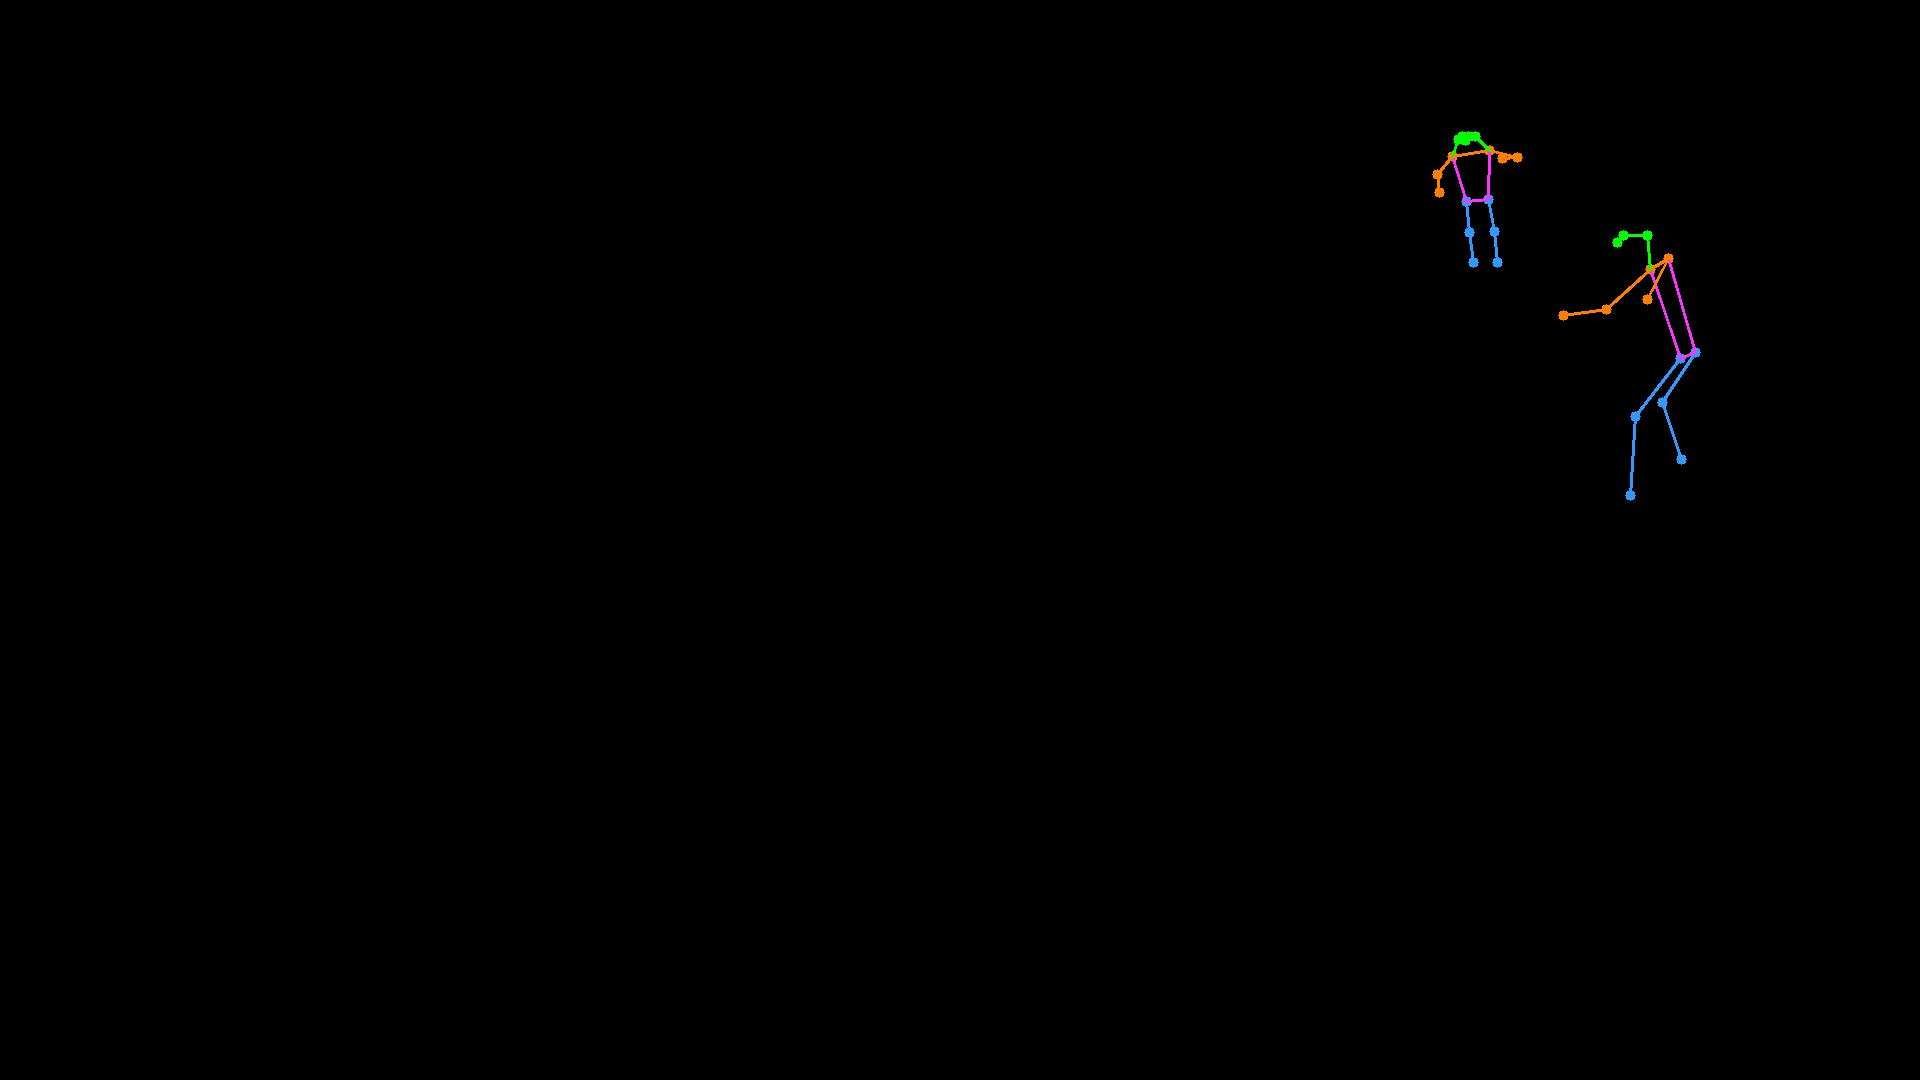normal: (1542, 211, 1731, 524), (1425, 116, 1534, 287)
